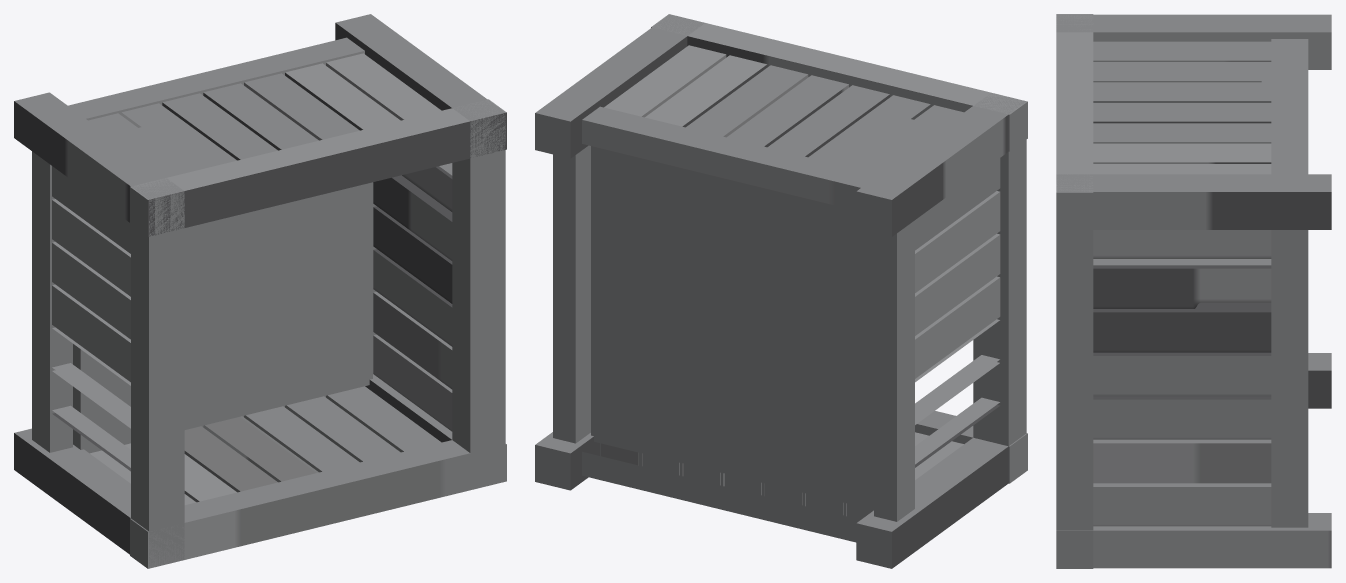
3 views of the same model, side by side, from view 1: azimuth 30°, elevation 25°; view 2: azimuth 150°, elevation 25°; view 3: azimuth 270°, elevation 25° (orthographic). The views are drawn at different scales.
Bounding box in the file's own units: 0.86 × 0.845 × 0.56.
